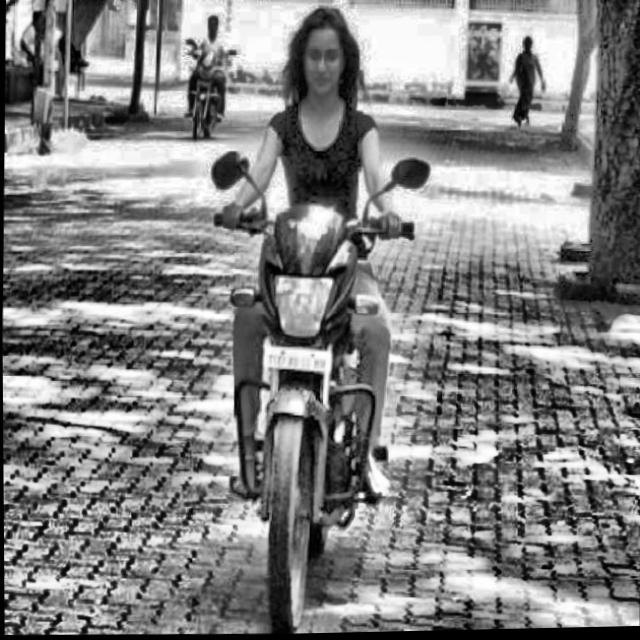motorcycle: (165, 139, 451, 637)
